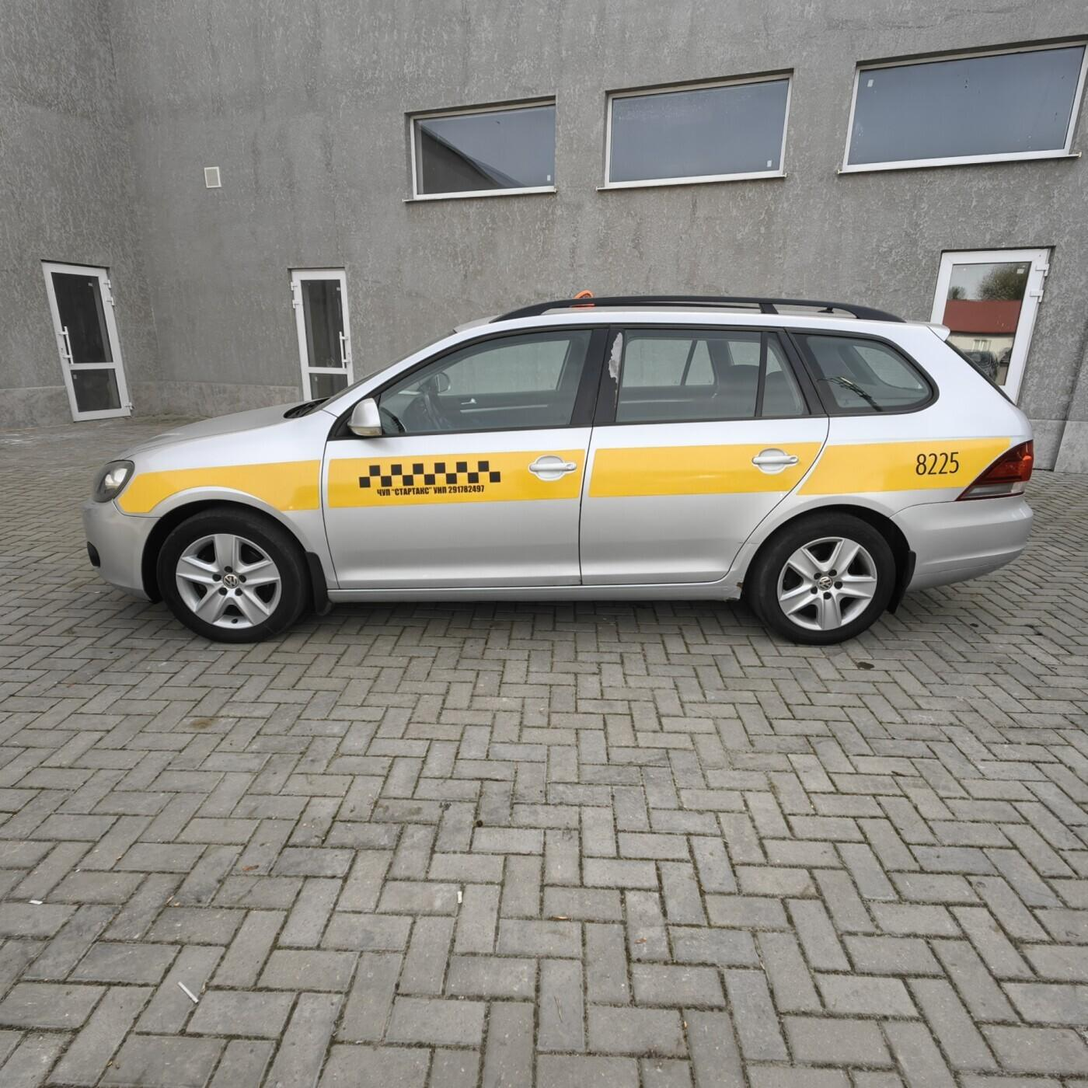Golf_2008-2013: (85, 294, 1040, 651)
